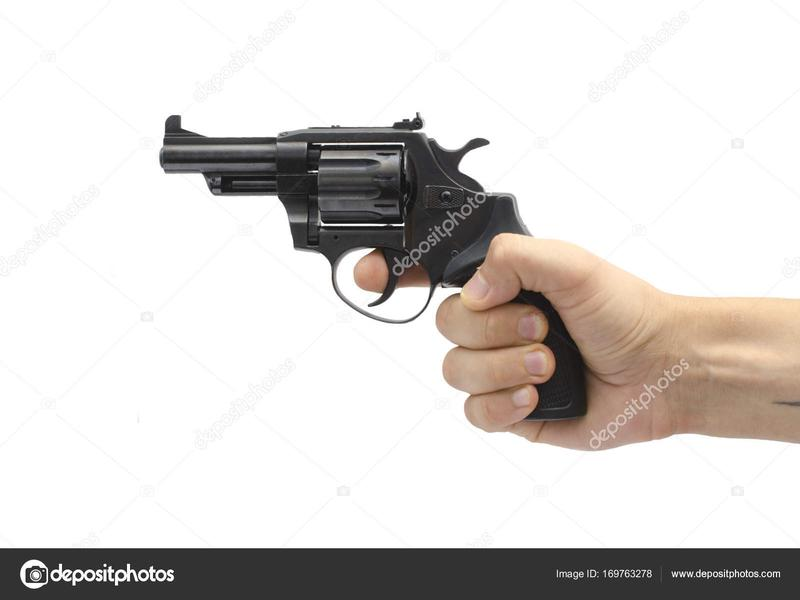Revolver: (153, 88, 561, 384)
